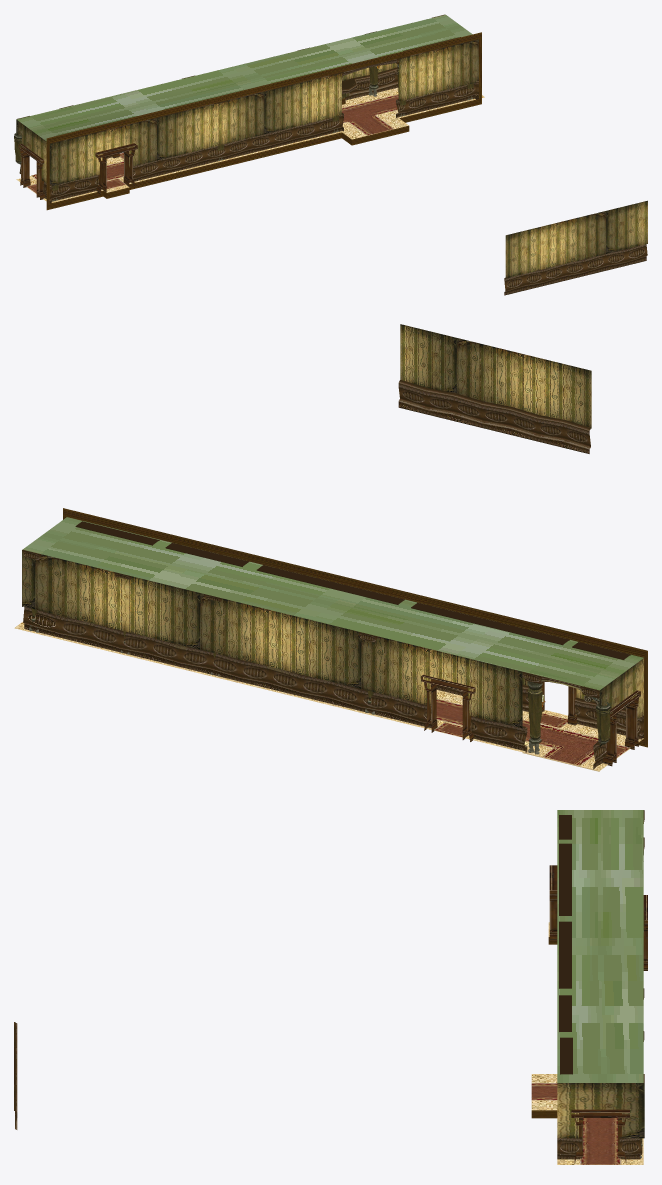
File: room_18.glb
3 renders of one model, top to bottom at view 1: azimuth 30°, elevation 25°; view 2: azimuth 150°, elevation 25°; view 3: azimuth 270°, elevation 25°, orthographic. The views are drawn at different scales.
Visible parts, largest first — view 1: room_18; view 2: room_18; view 3: room_18.
Part boxes in pixels (<box>): room_18: <box>14,14,647,295</box>; room_18: <box>14,324,647,771</box>; room_18: <box>14,810,647,1164</box>.
Bounding box in the file's own units: 3841 × 600 × 3675.
21 materials, 21 textured.
